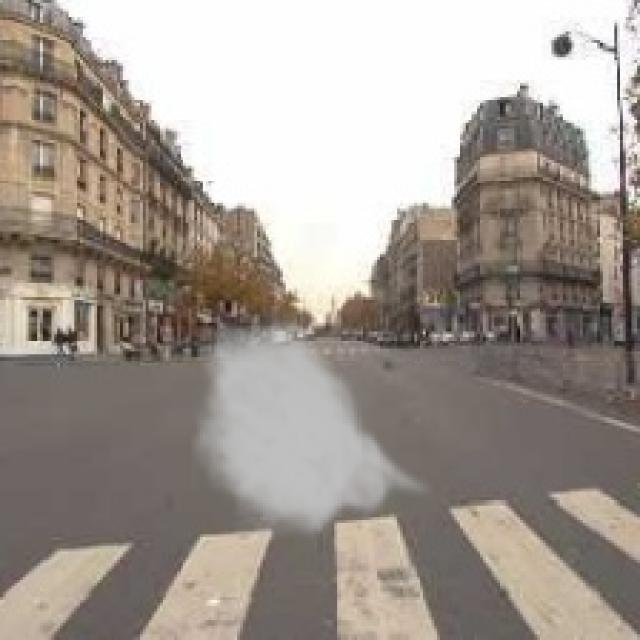Smoke: (192, 306, 438, 543)
